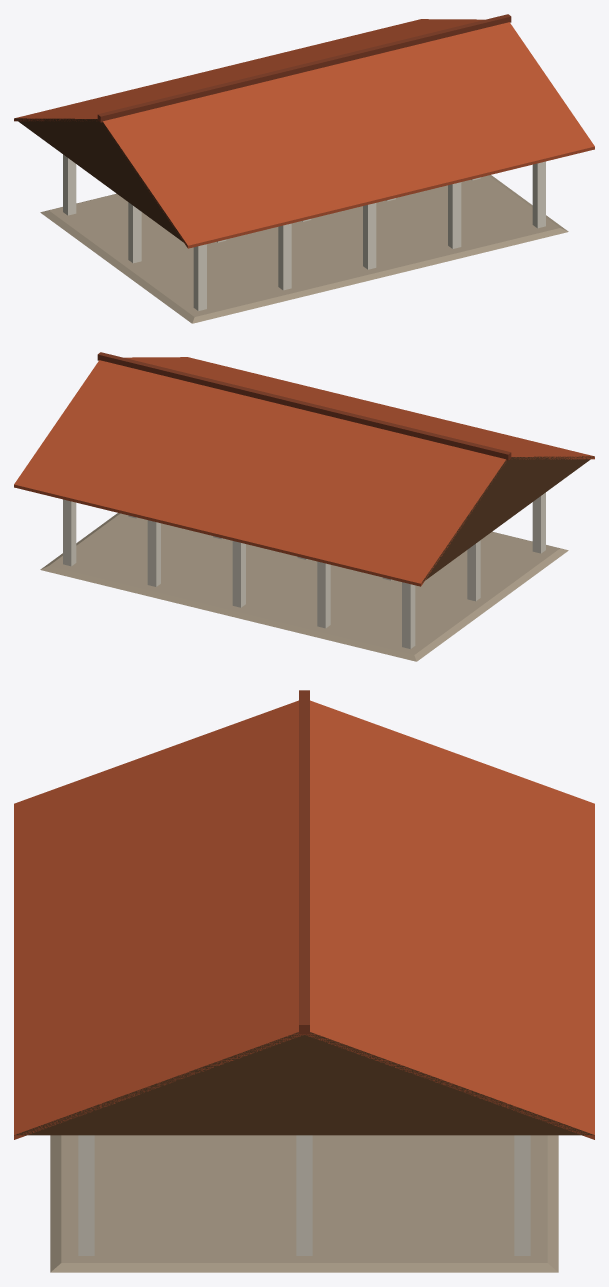
File: bld_ot_market_hall.glb
3 renders of one model, top to bottom at view 1: azimuth 30°, elevation 25°; view 2: azimuth 150°, elevation 25°; view 3: azimuth 270°, elevation 25°, orthographic. The views are drawn at different scales.
Visible parts, largest first — view 1: bld_ot_market_hall; view 2: bld_ot_market_hall; view 3: bld_ot_market_hall.
Boxes of the visible parts, x1=… form: bld_ot_market_hall: x1=14, y1=14, x2=594, y2=323; bld_ot_market_hall: x1=14, y1=352, x2=594, y2=661; bld_ot_market_hall: x1=14, y1=690, x2=594, y2=1272.
Size of what is drawn, in the model's own units: 21.8 by 7.95 by 16.
